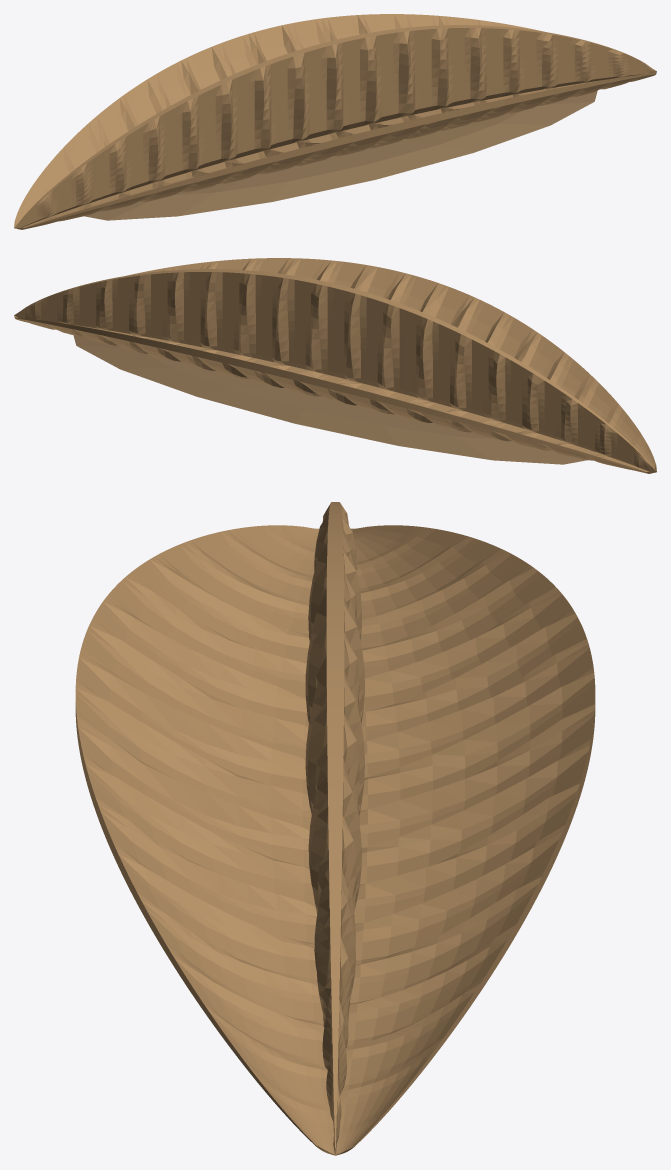
The model's file is pteridinium.glb.
The picture shows the model from 3 angles, top to bottom: view 1: azimuth 30°, elevation 25°; view 2: azimuth 150°, elevation 25°; view 3: azimuth 270°, elevation 25°; orthographic projection. The views are drawn at different scales.
Visible parts, largest first — view 1: integrated_three_quilted_vanes_canoe_fossil_interpreted_post, small_original_supporting_fossil_matrix; view 2: integrated_three_quilted_vanes_canoe_fossil_interpreted_post, small_original_supporting_fossil_matrix; view 3: integrated_three_quilted_vanes_canoe_fossil_interpreted_post.
Boxes of the visible parts, x1,y1,x2,y2 form: integrated_three_quilted_vanes_canoe_fossil_interpreted_post: [14, 14, 656, 229]; small_original_supporting_fossil_matrix: [84, 90, 597, 220]; integrated_three_quilted_vanes_canoe_fossil_interpreted_post: [14, 258, 656, 473]; small_original_supporting_fossil_matrix: [73, 335, 587, 464]; integrated_three_quilted_vanes_canoe_fossil_interpreted_post: [75, 502, 595, 1155].
Size of the model in its own units: 0.2 by 0.0355 by 0.07.
